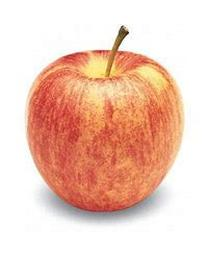apple: (23, 46, 185, 211)
